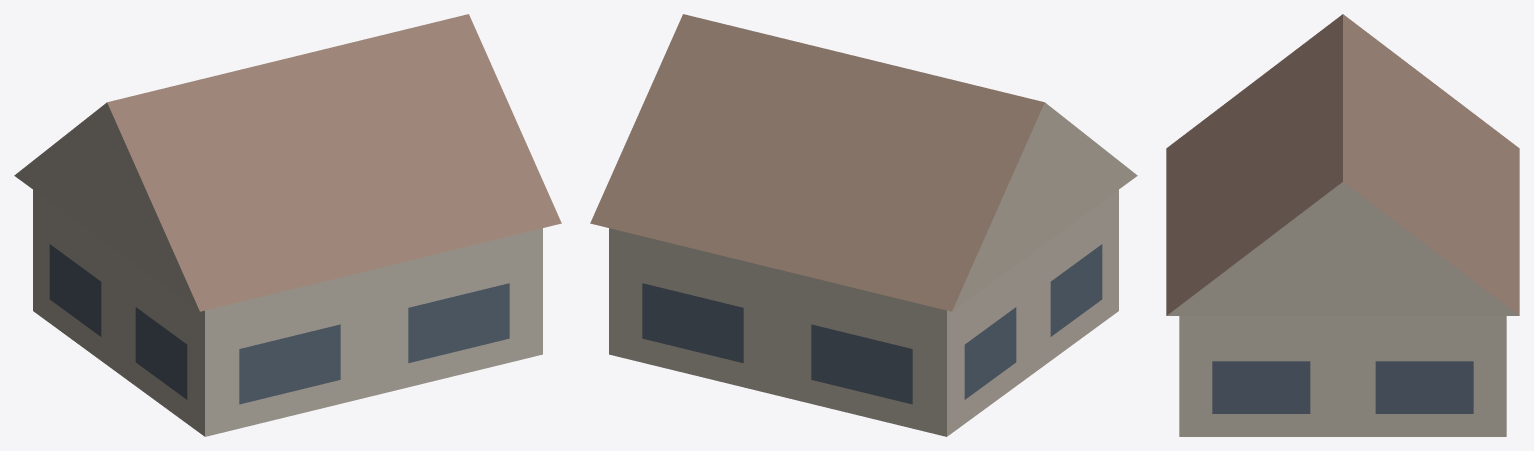
Rendered from house_10_steep_dacha.glb.
3 views of the same model, side by side, from view 1: azimuth 30°, elevation 25°; view 2: azimuth 150°, elevation 25°; view 3: azimuth 270°, elevation 25° (orthographic). The views are drawn at different scales.
Parts seen in each view (by area): view 1: house_10_steep_dacha; view 2: house_10_steep_dacha; view 3: house_10_steep_dacha.
Boxes of the visible parts, box(x1,y1,x2,y2) form: house_10_steep_dacha: box(14, 14, 561, 436); house_10_steep_dacha: box(590, 14, 1137, 436); house_10_steep_dacha: box(1166, 14, 1519, 436).
Size of the model in its own units: 9.1 by 6.6 by 8.1.
